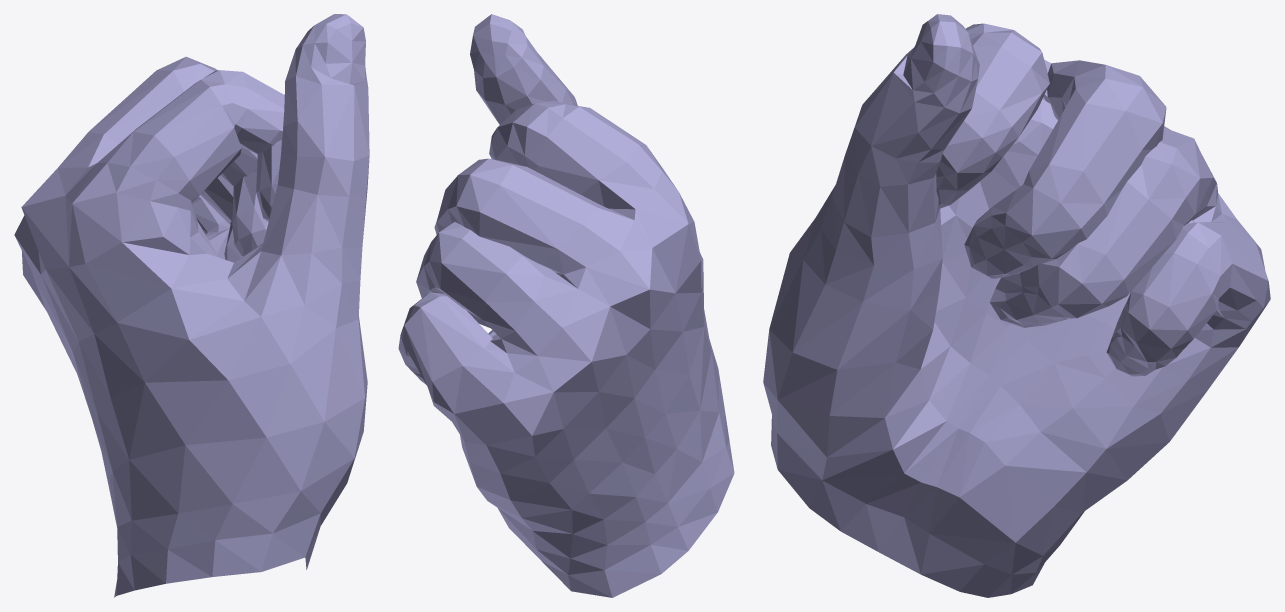
File: frame_0038_source_000038_hand.glb
The picture shows the model from 3 angles, left to right: view 1: azimuth 30°, elevation 25°; view 2: azimuth 150°, elevation 25°; view 3: azimuth 270°, elevation 25°; orthographic projection. The views are drawn at different scales.
Parts seen in each view (by area): view 1: world; view 2: world; view 3: world.
Part boxes in pixels (x1,y1,x2,y2): world: (14, 14, 369, 597); world: (398, 14, 734, 597); world: (763, 14, 1270, 597).
Size of the model in its own units: 0.0624 by 0.127 by 0.0922.
